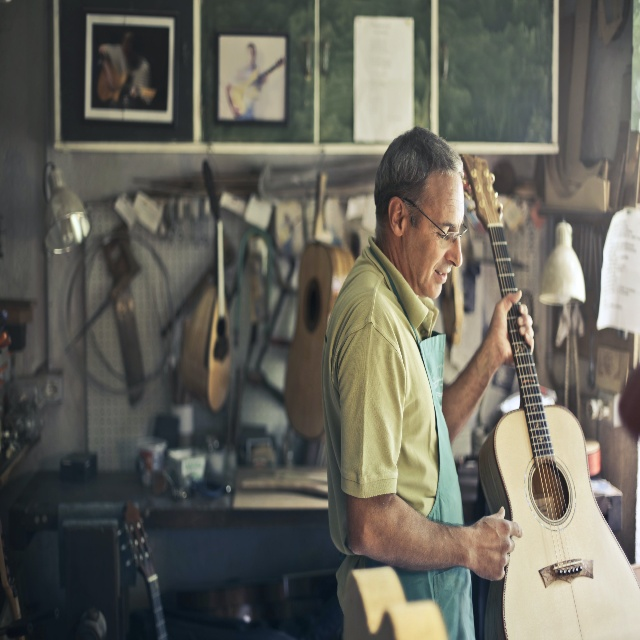Gafas: (403, 197, 468, 248)
Sin_guantes: (471, 506, 524, 582), (491, 289, 534, 368)
